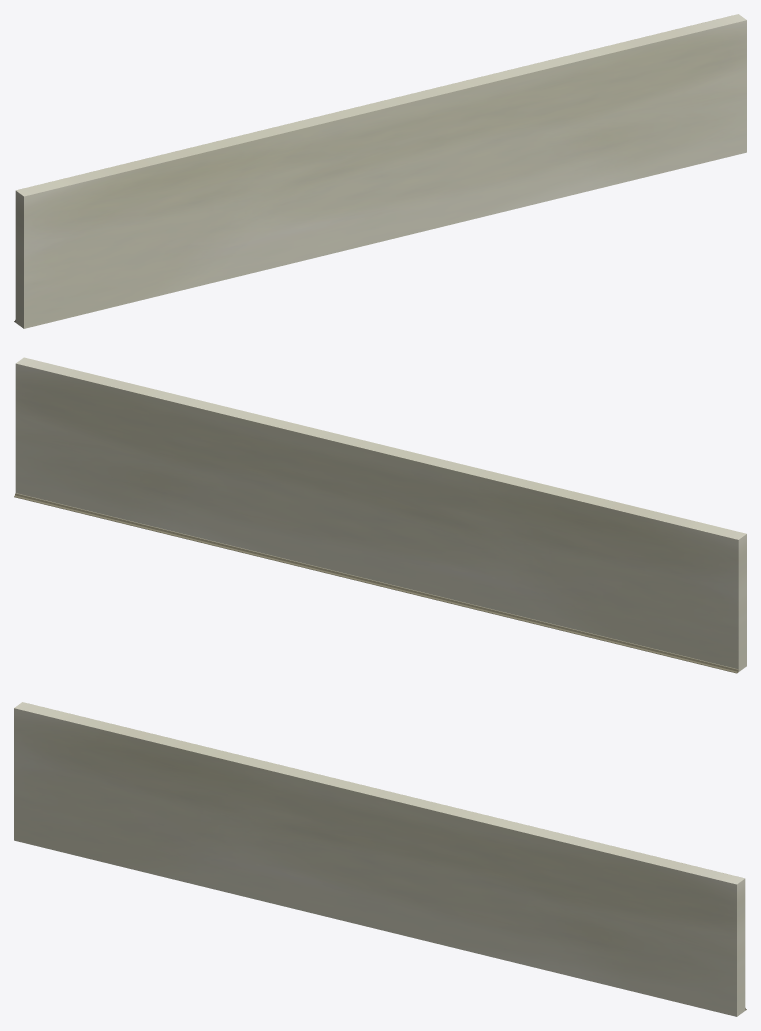
The model's file is EastWall.fbx.
3 renders of one model, top to bottom at view 1: azimuth 30°, elevation 25°; view 2: azimuth 150°, elevation 25°; view 3: azimuth 330°, elevation 25°, orthographic.
Parts seen in each view (by area): view 1: Export Wall 3; view 2: Export Wall 3; view 3: Export Wall 3.
Boxes of the visible parts, bbox=[...] form: Export Wall 3: bbox=[14, 14, 746, 328]; Export Wall 3: bbox=[14, 357, 746, 673]; Export Wall 3: bbox=[14, 702, 746, 1016].
Bounding box in the file's own units: 2000 × 350 × 48.09.
